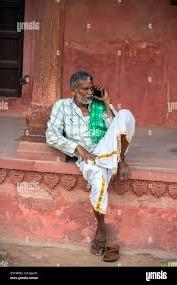Human: (50, 62, 140, 252)
